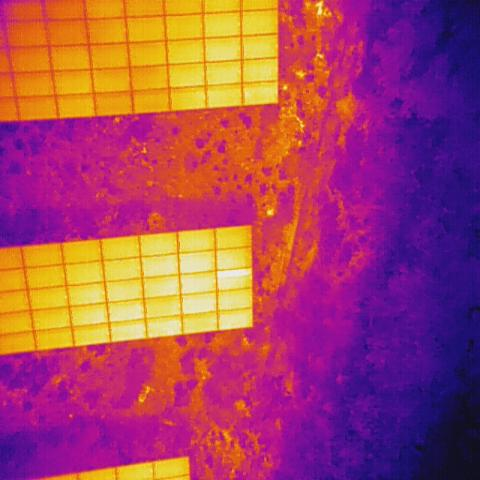fault: (216, 268, 250, 278)
